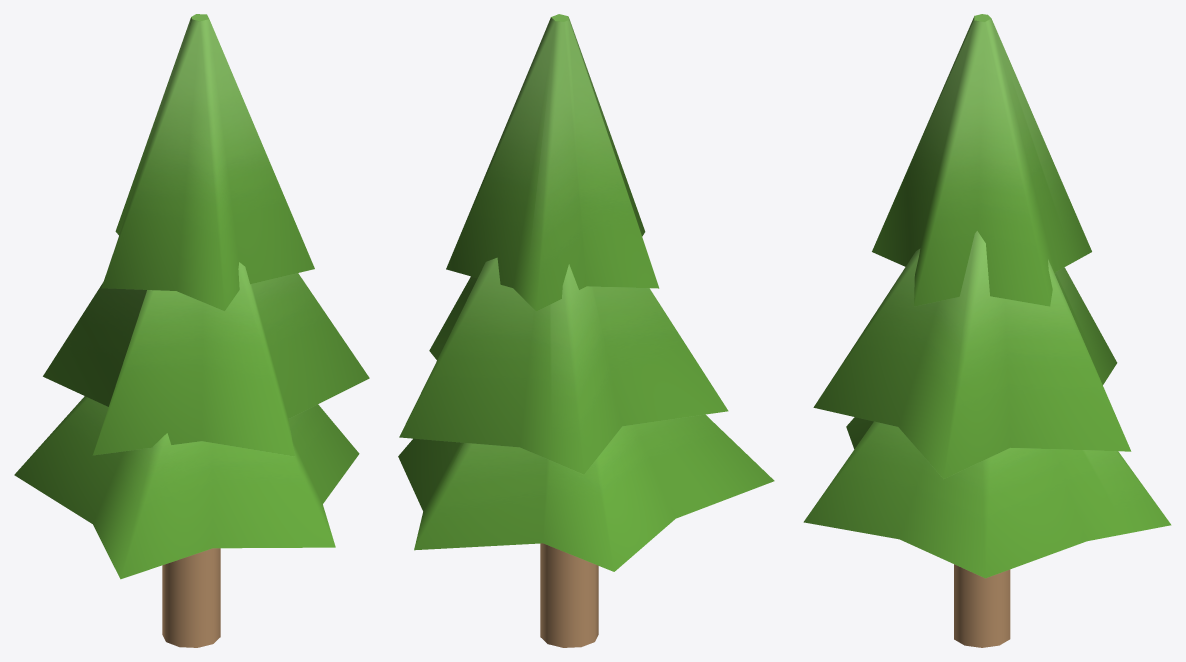
File: Tree002.fbx
3 views of the same model, side by side, from view 1: azimuth 30°, elevation 25°; view 2: azimuth 150°, elevation 25°; view 3: azimuth 270°, elevation 25° (orthographic).
Parts seen in each view (by area): view 1: Cylinder058; view 2: Cylinder058; view 3: Cylinder058.
Part boxes in pixels (x1,y1,x2,y2): Cylinder058: [14, 14, 369, 647]; Cylinder058: [398, 14, 774, 647]; Cylinder058: [803, 14, 1171, 647].
Size of the model in its own units: 54.73 by 105 by 56.14.
Materials: 2 (2 with a texture image).
